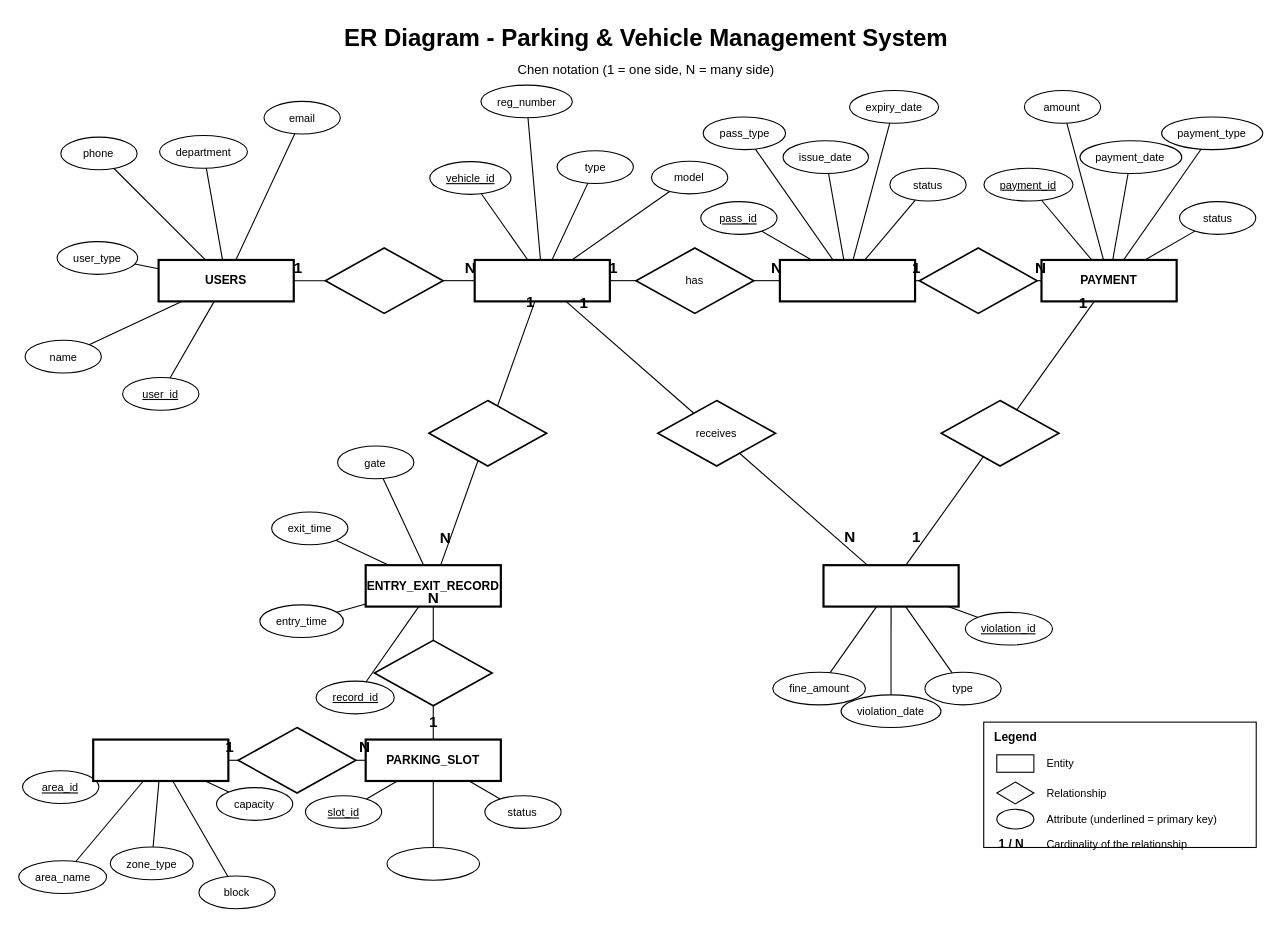
Some shapes in this 1283 by 928 pixel diagram are drawn without their labels. The shapes that lost their labels are listed below. From the top down, each one's centre as x and y in pixels, then its label:
(383,280): owns
(541,280): VEHICLE
(847,280): PARKING_PASS
(977,280): requires
(487,432): generates
(999,432): settled_by
(890,585): VIOLATION
(432,672): occupied_in
(160,760): PARKING_AREA
(296,759): contains
(433,863): slot_number
